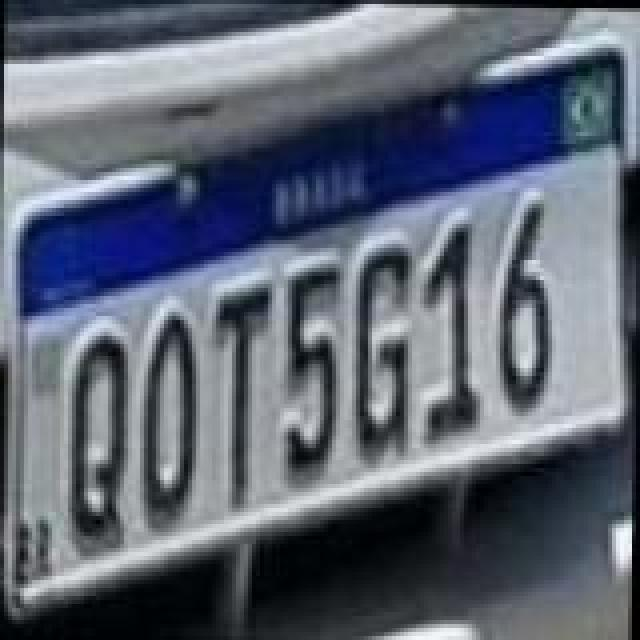1: (414, 220, 486, 444)
5: (286, 256, 350, 476)
6: (492, 198, 560, 418)
G: (348, 244, 416, 468)
O: (138, 304, 206, 520)
Q: (66, 326, 134, 538)
T: (202, 276, 270, 508)
